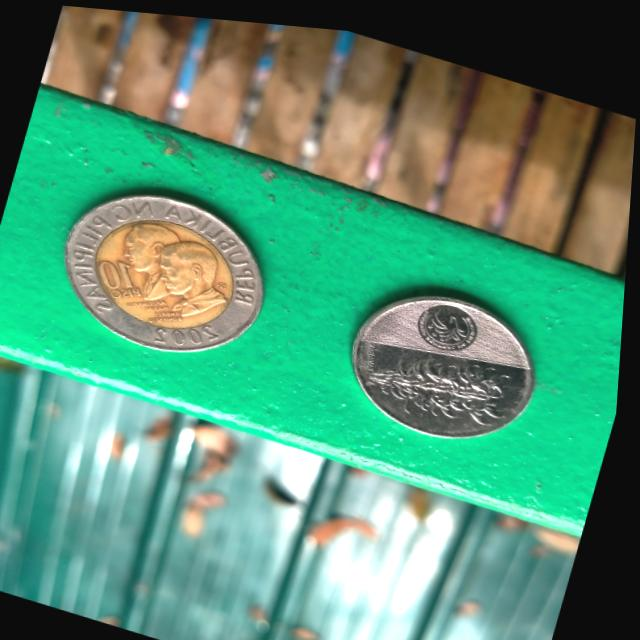10_Old_Front: (90, 248, 163, 309)
5_New_Back: (365, 316, 523, 427)
